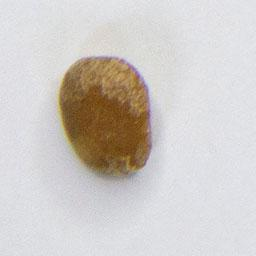defect: (56, 53, 156, 180)
